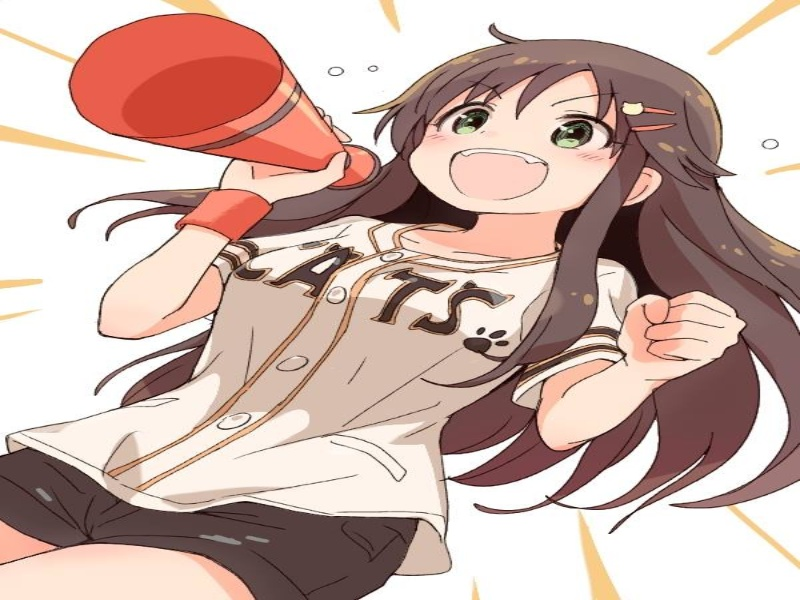person: (352, 15, 729, 244)
